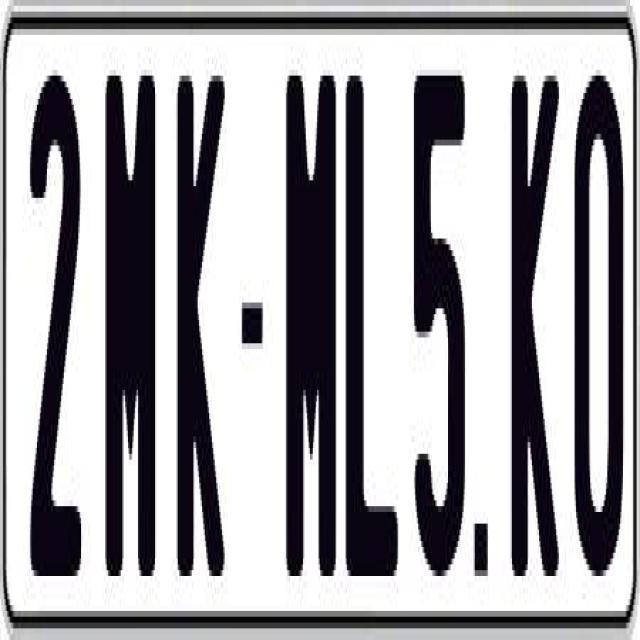0: (574, 70, 618, 594)
2: (26, 58, 78, 576)
5: (410, 70, 466, 606)
K: (508, 64, 554, 594), (173, 64, 220, 576)
L: (344, 76, 404, 594)
M: (105, 58, 161, 588), (283, 58, 336, 594)
